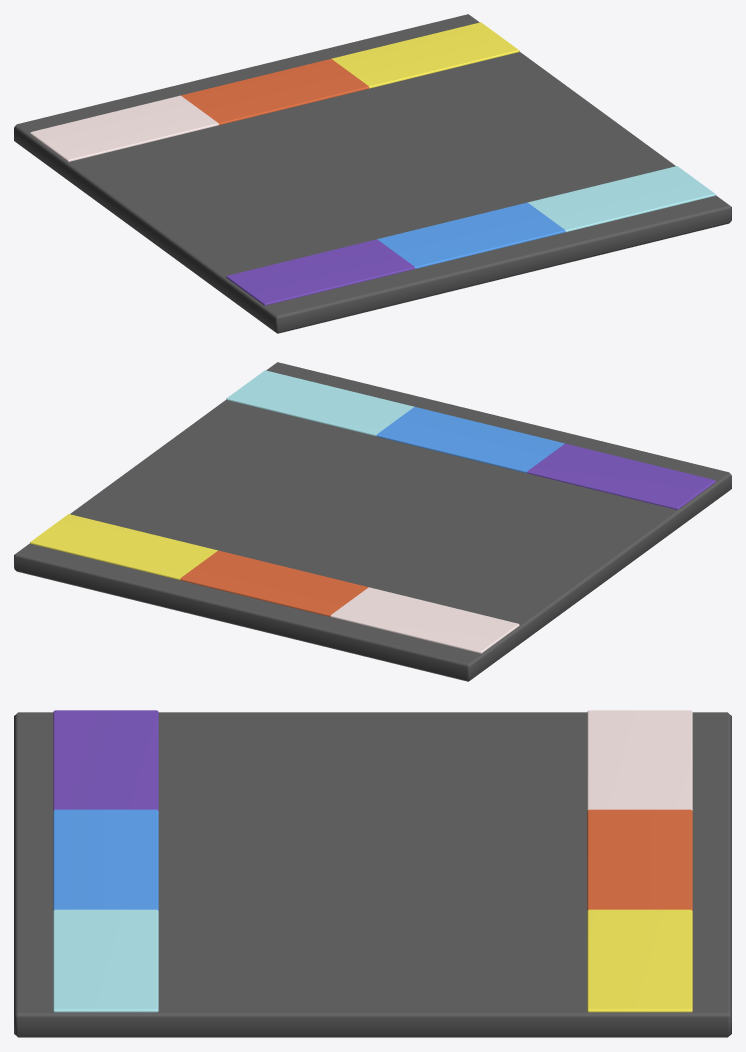
Rendered from Isl_3_Vinyl_Box_5.fbx.
The picture shows the model from 3 angles, top to bottom: view 1: azimuth 30°, elevation 25°; view 2: azimuth 150°, elevation 25°; view 3: azimuth 270°, elevation 25°; orthographic projection. The views are drawn at different scales.
Visible parts, largest first — view 1: Isl_3_Vinyl_Box_5; view 2: Isl_3_Vinyl_Box_5; view 3: Isl_3_Vinyl_Box_5.
Part boxes in pixels (box(x1,y1,x2,y2)): Isl_3_Vinyl_Box_5: box(14, 14, 731, 333); Isl_3_Vinyl_Box_5: box(14, 362, 731, 681); Isl_3_Vinyl_Box_5: box(14, 710, 731, 1037).
Bounding box in the file's own units: 43.4 × 1.86 × 43.4.
